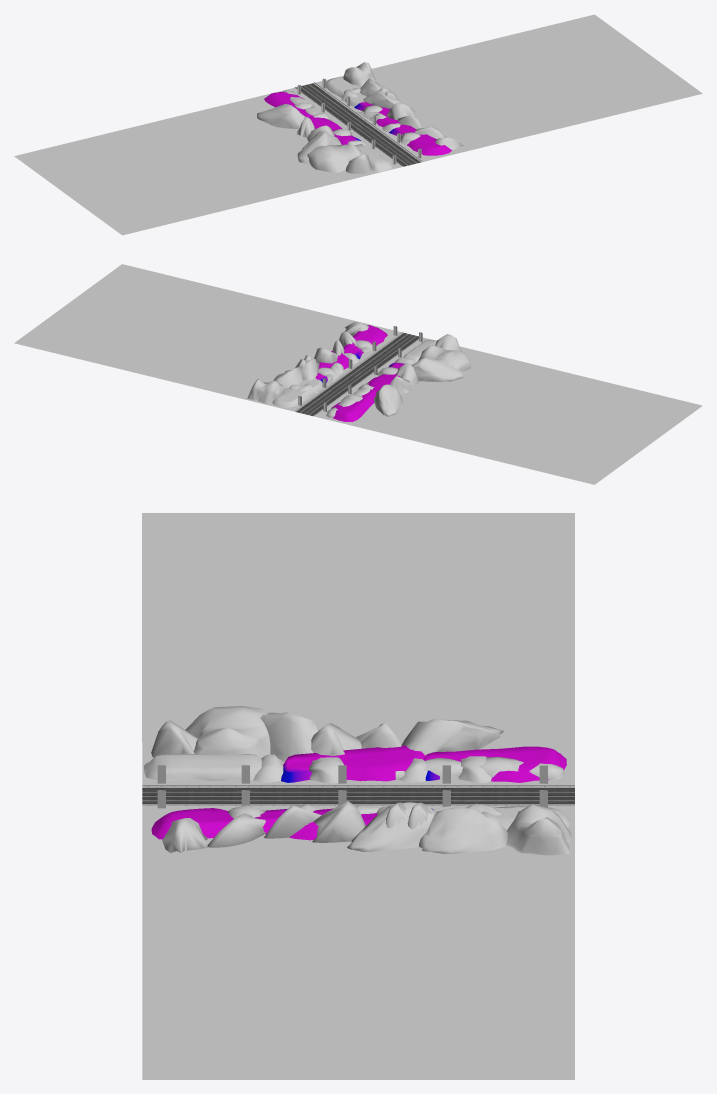
Rendered from snow _ p_01.FBX.
3 views of the same model, one above another, from view 1: azimuth 30°, elevation 25°; view 2: azimuth 150°, elevation 25°; view 3: azimuth 270°, elevation 25° (orthographic). The views are drawn at different scales.
Parts seen in each view (by area): view 1: plan_1, road1, Cylinder011, Object040, Object044, Object020, Object002, Object033, Cylinder006, Object025, Object036, Line001 (+3 smaller); view 2: plan_1, road1, Object020, Cylinder006, Object002, Object025, Object040, Object044, Cylinder011, Object033, Object755, Object036 (+2 smaller); view 3: plan_1, road1, Object002, Object044, Cylinder006, Object020, Cylinder011, Line001, Object042, Object755, Object033, Object040 (+2 smaller).
Part boxes in pixels (box(x1,y1,x2,y2)): plan_1: box(14, 14, 702, 235); road1: box(296, 83, 421, 166); Cylinder011: box(307, 143, 361, 173); Object040: box(382, 123, 451, 155); Object044: box(386, 102, 463, 149); Object020: box(326, 77, 398, 106); Object002: box(296, 116, 360, 144); Object033: box(257, 104, 305, 128); Cylinder006: box(264, 90, 332, 120); Object025: box(297, 131, 341, 165); Object036: box(354, 102, 401, 126); Line001: box(347, 140, 392, 171); plan_1: box(14, 264, 702, 484); road1: box(295, 332, 418, 416); Object020: box(272, 367, 322, 407); Cylinder006: box(326, 383, 375, 421); Object002: box(367, 362, 418, 393); Object025: box(411, 357, 465, 381); Object040: box(343, 325, 387, 363); Object044: box(314, 322, 368, 363); Cylinder011: box(418, 345, 470, 371); Object033: box(373, 384, 403, 416); Object755: box(247, 379, 284, 403); Object036: box(315, 351, 348, 382); plan_1: box(142, 513, 574, 1079); road1: box(142, 787, 574, 805); Object002: box(281, 723, 425, 783); Object044: box(162, 801, 365, 852); Cylinder006: box(395, 746, 566, 783); Object020: box(419, 803, 570, 854); Cylinder011: box(185, 706, 270, 758); Line001: box(143, 754, 283, 782); Object042: box(347, 802, 436, 851); Object755: box(506, 803, 571, 855); Object033: box(401, 719, 503, 755); Object040: box(151, 804, 319, 839).
Size of the model in its own units: 11621 by 383 by 3755.
